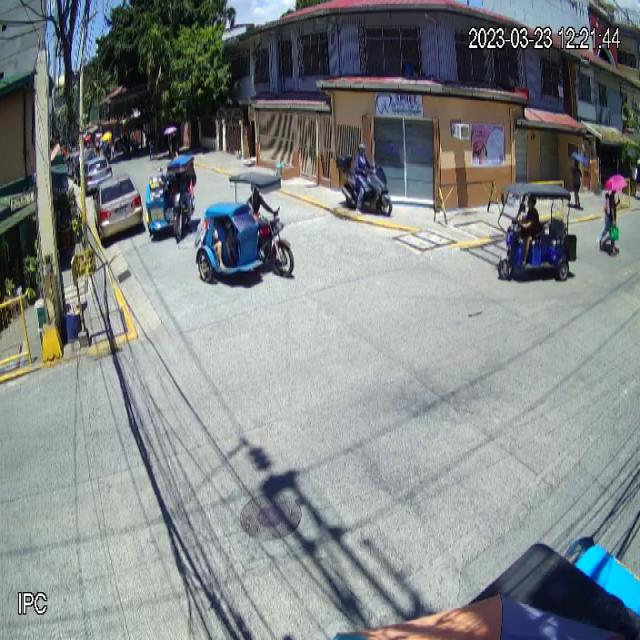Tricycle: (196, 170, 294, 284)
